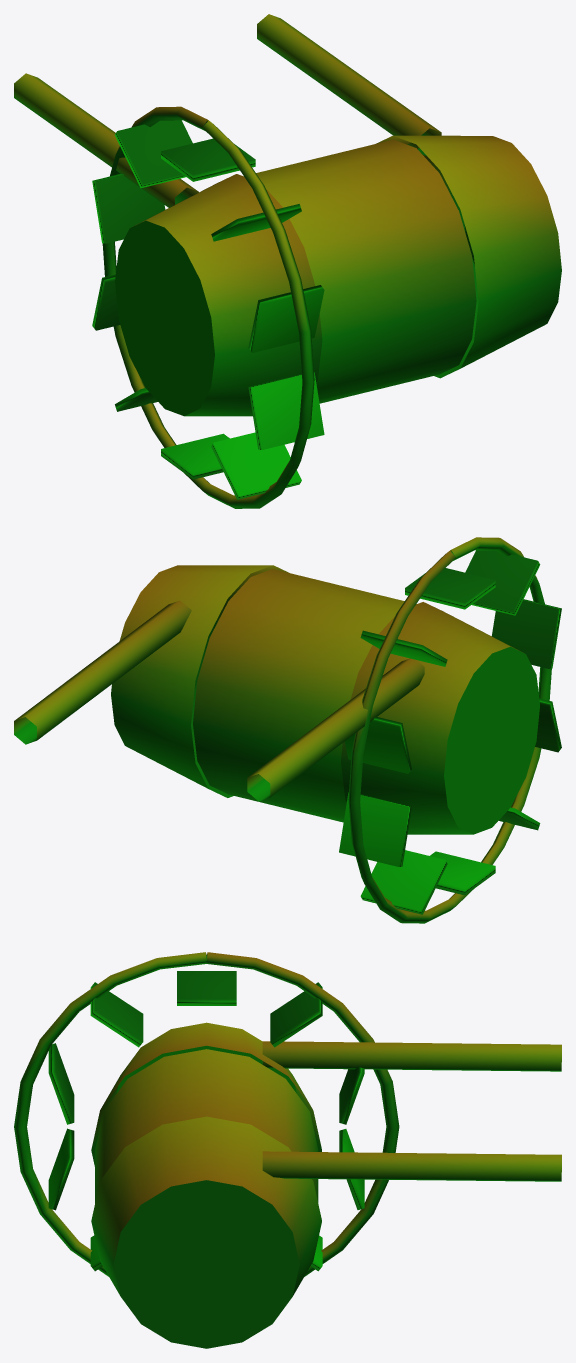
File: kite_engine.glb
3 renders of one model, top to bottom at view 1: azimuth 30°, elevation 25°; view 2: azimuth 150°, elevation 25°; view 3: azimuth 270°, elevation 25°, orthographic. The views are drawn at different scales.
Visible parts, largest first — view 1: kite_engine; view 2: kite_engine; view 3: kite_engine.
Boxes of the visible parts, x1,y1,x2,y2 form: kite_engine: [14, 14, 561, 508]; kite_engine: [14, 537, 561, 923]; kite_engine: [14, 952, 561, 1348].
Size of what is drawn, in the model's own units: 2 by 2.07 by 2.94.
